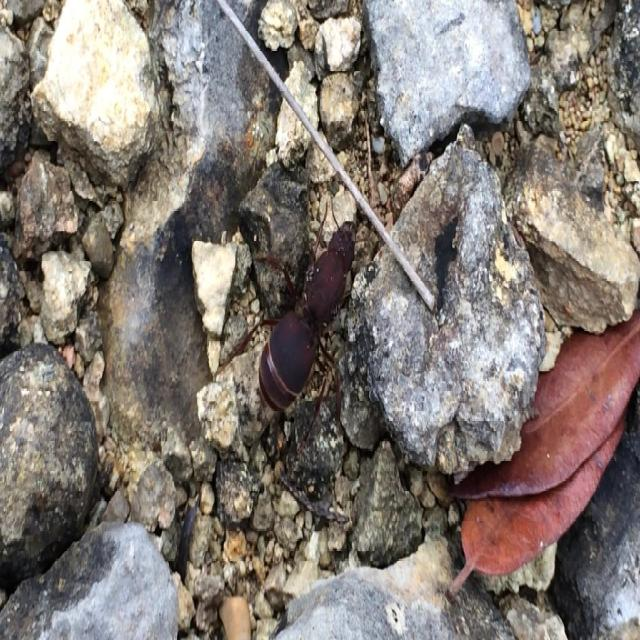Alive-Female-Dealate: (211, 193, 375, 455)
